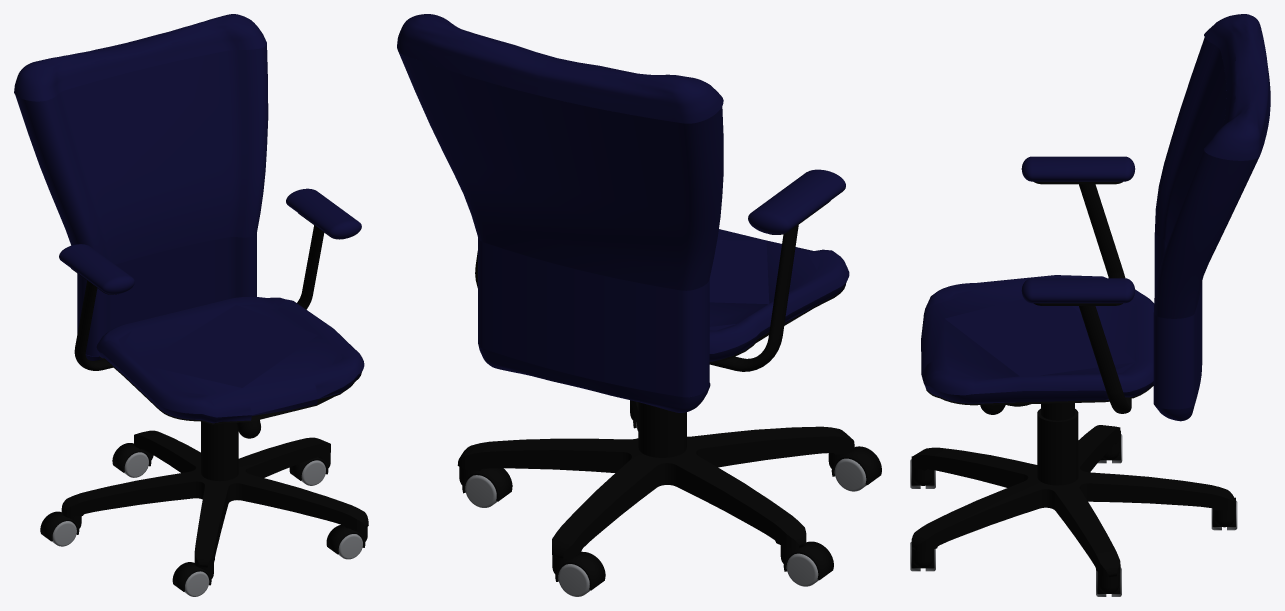
File: office_chair.fbx
The picture shows the model from 3 angles, left to right: view 1: azimuth 30°, elevation 25°; view 2: azimuth 150°, elevation 25°; view 3: azimuth 270°, elevation 25°; orthographic projection. The views are drawn at different scales.
Parts seen in each view (by area): view 1: 25:transform1, 27:transform1, 1:transform1, 26:transform1, 2:transform1, 23:transform1, 18:transform1, 21:transform1, 10:transform1, 12:transform1, 6:transform1, 8:transform1 (+5 smaller); view 2: 25:transform1, 1:transform1, 26:transform1, 27:transform1, 23:transform1, 2:transform1, 18:transform1, 10:transform1, 8:transform1, 6:transform1, 7:transform1, 4:transform1 (+4 smaller); view 3: 27:transform1, 25:transform1, 1:transform1, 26:transform1, 23:transform1, 2:transform1, 18:transform1, 21:transform1, 3:transform1, 6:transform1, 12:transform1.
Boxes of the visible parts, x1=… form: 25:transform1: x1=15, y1=44, x2=361, y2=356; 27:transform1: x1=85, y1=296, x2=364, y2=424; 1:transform1: x1=61, y1=430, x2=368, y2=567; 26:transform1: x1=14, y1=14, x2=266, y2=101; 2:transform1: x1=201, y1=421, x2=238, y2=481; 23:transform1: x1=59, y1=244, x2=134, y2=294; 18:transform1: x1=75, y1=280, x2=97, y2=352; 21:transform1: x1=302, y1=225, x2=324, y2=297; 10:transform1: x1=65, y1=516, x2=209, y2=596; 12:transform1: x1=197, y1=534, x2=362, y2=579; 6:transform1: x1=124, y1=452, x2=330, y2=477; 8:transform1: x1=52, y1=445, x2=153, y2=546; 25:transform1: x1=398, y1=51, x2=723, y2=397; 1:transform1: x1=457, y1=400, x2=854, y2=559; 26:transform1: x1=397, y1=14, x2=723, y2=387; 27:transform1: x1=578, y1=229, x2=849, y2=412; 23:transform1: x1=748, y1=169, x2=845, y2=234; 2:transform1: x1=638, y1=402, x2=686, y2=457; 18:transform1: x1=768, y1=225, x2=798, y2=339; 10:transform1: x1=780, y1=458, x2=866, y2=563; 8:transform1: x1=552, y1=553, x2=818, y2=586; 6:transform1: x1=459, y1=467, x2=590, y2=596; 7:transform1: x1=555, y1=551, x2=605, y2=590; 4:transform1: x1=465, y1=475, x2=497, y2=507; 27:transform1: x1=921, y1=275, x2=1154, y2=405; 25:transform1: x1=1021, y1=37, x2=1259, y2=409; 1:transform1: x1=911, y1=425, x2=1235, y2=577; 26:transform1: x1=1155, y1=14, x2=1270, y2=421; 23:transform1: x1=1021, y1=156, x2=1135, y2=181; 2:transform1: x1=1037, y1=408, x2=1078, y2=485; 18:transform1: x1=1079, y1=184, x2=1122, y2=272; 21:transform1: x1=1079, y1=306, x2=1122, y2=394; 3:transform1: x1=1041, y1=403, x2=1074, y2=420; 6:transform1: x1=1098, y1=500, x2=1237, y2=593; 12:transform1: x1=910, y1=466, x2=935, y2=571.
Size of the model in its own units: 0.889 by 1.27 by 0.889.
